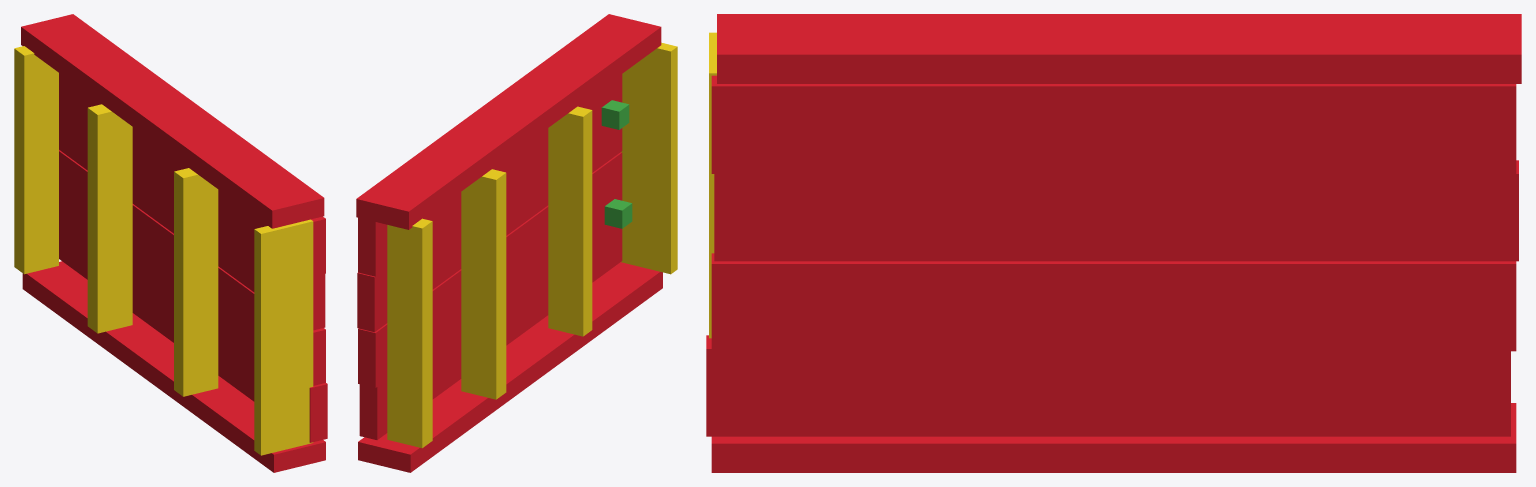
The model's file is tinker.obj.
The picture shows the model from 3 angles, left to right: view 1: azimuth 30°, elevation 25°; view 2: azimuth 150°, elevation 25°; view 3: azimuth 270°, elevation 25°; orthographic projection. The views are drawn at different scales.
Parts seen in each view (by area): view 1: group_0_15277357, group_0_16768282; view 2: group_0_15277357, group_0_16768282, group_0_4634441; view 3: group_0_15277357, group_0_16768282.
Part boxes in pixels (box(x1,y1,x2,y2)): group_0_15277357: box(21, 14, 327, 472); group_0_16768282: box(14, 46, 313, 455); group_0_15277357: box(356, 14, 662, 472); group_0_16768282: box(387, 42, 677, 448); group_0_4634441: box(601, 100, 632, 228); group_0_15277357: box(706, 14, 1521, 472); group_0_16768282: box(709, 32, 716, 338).
Size of the model in its own units: 45.4 by 172 by 304.
